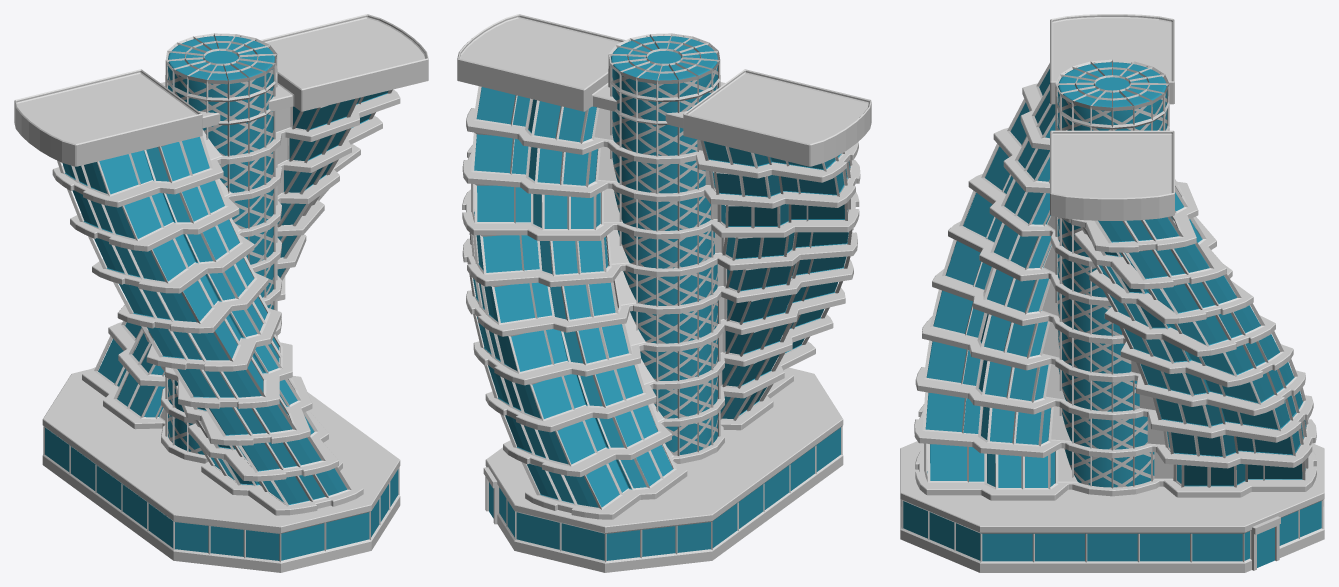
File: Helix Building 1.fbx
3 views of the same model, side by side, from view 1: azimuth 30°, elevation 25°; view 2: azimuth 150°, elevation 25°; view 3: azimuth 270°, elevation 25° (orthographic).
Visible parts, largest first — view 1: main structure.001, base, platform.001, main structure, wire structure.001, core.001, wire core.001, wire helix.001, balcony.001, wire structure.002, base wires; view 2: main structure, base, main structure.001, platform.001, core.001, wire structure.002, wire helix.001, wire core.001, balcony.001, wire structure.001, base wires, Cube; view 3: main structure.001, main structure, base, platform.001, core.001, wire structure.001, wire structure.002, wire core.001, wire helix.001, balcony.001, base wires, Cube.
Boxes of the visible parts, <box> form: main structure.001: <box>52,129,363,515</box>; base: <box>42,369,400,572</box>; platform.001: <box>14,14,428,166</box>; main structure: <box>82,89,400,429</box>; wire structure.001: <box>57,136,351,506</box>; core.001: <box>167,36,274,454</box>; wire core.001: <box>165,33,277,452</box>; wire helix.001: <box>167,34,274,453</box>; balcony.001: <box>161,131,281,463</box>; wire structure.002: <box>94,89,392,419</box>; base wires: <box>43,426,399,562</box>; main structure: <box>462,87,687,519</box>; base: <box>485,367,843,572</box>; main structure.001: <box>696,140,860,430</box>; platform.001: <box>457,14,871,166</box>; core.001: <box>611,36,718,454</box>; wire structure.002: <box>467,86,676,509</box>; wire helix.001: <box>612,34,718,455</box>; wire core.001: <box>608,33,720,455</box>; balcony.001: <box>607,140,724,463</box>; wire structure.001: <box>700,140,852,420</box>; base wires: <box>498,426,842,562</box>; Cube: <box>483,467,498,524</box>; main structure.001: <box>914,69,1078,500</box>; main structure: <box>1069,181,1316,497</box>; base: <box>900,441,1324,572</box>; platform.001: <box>1050,14,1174,220</box>; core.001: <box>1057,62,1167,487</box>; wire structure.001: <box>922,63,1058,489</box>; wire structure.002: <box>1080,179,1308,487</box>; wire core.001: <box>1055,59,1169,488</box>; wire helix.001: <box>1057,61,1167,487</box>; balcony.001: <box>1050,218,1159,496</box>; base wires: <box>901,500,1323,562</box>; Cube: <box>1251,516,1280,570</box>.
Bounding box in the file's own units: 679 × 743 × 658.
